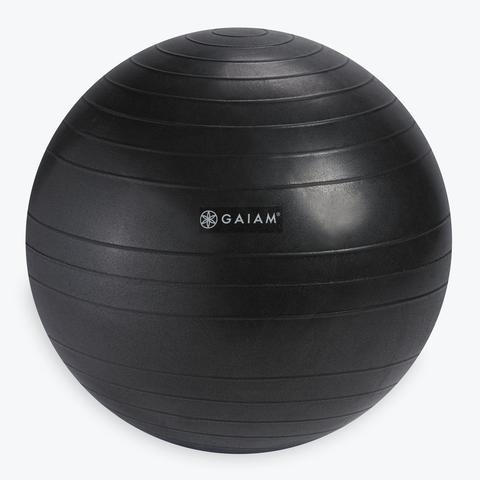yogaball: (17, 21, 459, 460)
